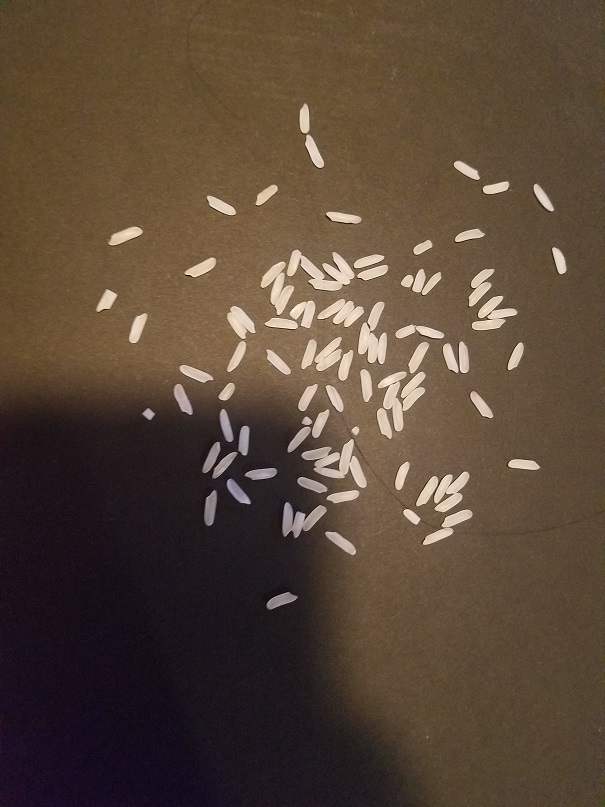egg: (325, 528, 358, 557), (106, 224, 144, 249), (302, 133, 326, 171), (229, 305, 258, 335), (313, 336, 343, 365), (183, 256, 217, 281), (210, 451, 239, 480), (414, 474, 438, 509), (263, 590, 300, 612), (262, 348, 290, 377), (223, 341, 248, 373), (407, 342, 432, 374), (224, 478, 252, 506), (467, 391, 494, 420), (465, 282, 494, 309), (476, 293, 505, 319), (301, 504, 327, 533), (179, 363, 214, 384), (420, 526, 455, 547), (440, 508, 475, 529), (297, 254, 325, 280), (171, 383, 193, 416), (259, 261, 284, 290), (320, 262, 351, 285), (432, 473, 455, 504), (272, 285, 294, 317), (286, 427, 312, 454), (399, 386, 426, 412), (401, 372, 426, 400), (127, 313, 148, 346), (316, 297, 346, 320), (331, 251, 354, 281), (205, 194, 236, 216), (355, 263, 389, 283), (377, 369, 411, 389), (201, 441, 221, 475), (331, 300, 356, 327), (315, 350, 343, 374), (365, 299, 386, 331), (347, 456, 368, 488), (532, 183, 555, 212), (323, 383, 345, 413), (433, 493, 463, 515), (375, 407, 394, 441), (226, 312, 249, 340), (311, 408, 331, 440), (339, 438, 355, 477), (96, 289, 119, 316), (296, 383, 317, 412), (451, 160, 480, 181), (358, 367, 374, 405), (505, 340, 524, 372), (202, 490, 218, 528), (469, 266, 494, 290), (446, 470, 470, 495), (296, 476, 329, 494), (255, 183, 279, 207), (269, 272, 285, 308), (337, 350, 355, 382), (326, 210, 362, 226), (441, 342, 459, 374), (300, 338, 317, 371), (351, 253, 386, 269), (356, 322, 372, 356), (326, 489, 360, 505), (218, 407, 233, 442), (453, 228, 485, 244), (382, 381, 400, 409), (344, 305, 364, 330), (415, 325, 446, 341), (393, 461, 409, 492), (551, 247, 568, 276), (391, 398, 405, 433), (312, 466, 347, 480), (457, 341, 472, 373), (421, 272, 441, 296), (308, 278, 342, 292), (482, 180, 510, 197), (243, 467, 279, 480), (280, 501, 293, 537), (300, 445, 331, 460), (300, 301, 316, 330), (314, 450, 341, 467), (290, 510, 305, 540), (218, 381, 237, 403), (298, 102, 311, 134), (411, 239, 434, 257), (264, 317, 298, 329), (471, 319, 505, 331), (410, 269, 426, 294), (507, 459, 540, 471), (390, 325, 416, 340), (237, 424, 248, 459), (377, 332, 389, 364), (286, 249, 300, 276), (401, 508, 421, 526), (366, 334, 378, 363), (488, 307, 517, 319), (289, 301, 305, 319), (398, 274, 414, 290), (140, 408, 155, 421), (301, 415, 312, 427), (350, 426, 359, 437)
